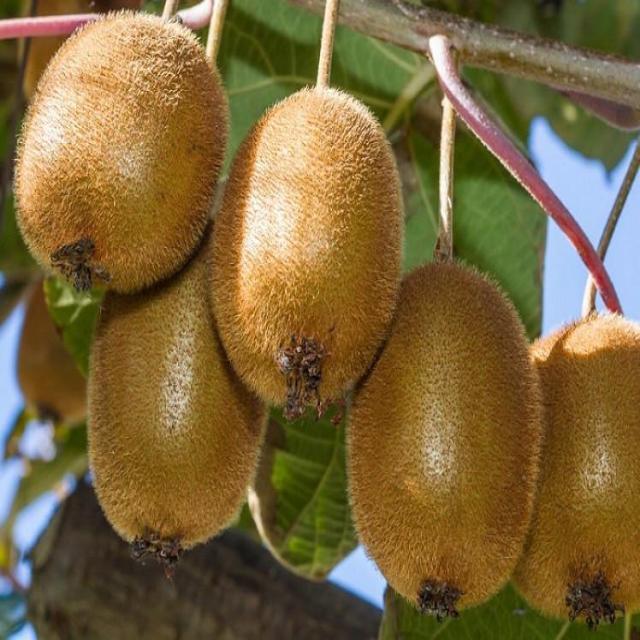kiwi: (342, 256, 547, 626), (211, 81, 415, 423), (87, 225, 283, 575), (11, 8, 233, 308), (504, 311, 640, 630)
